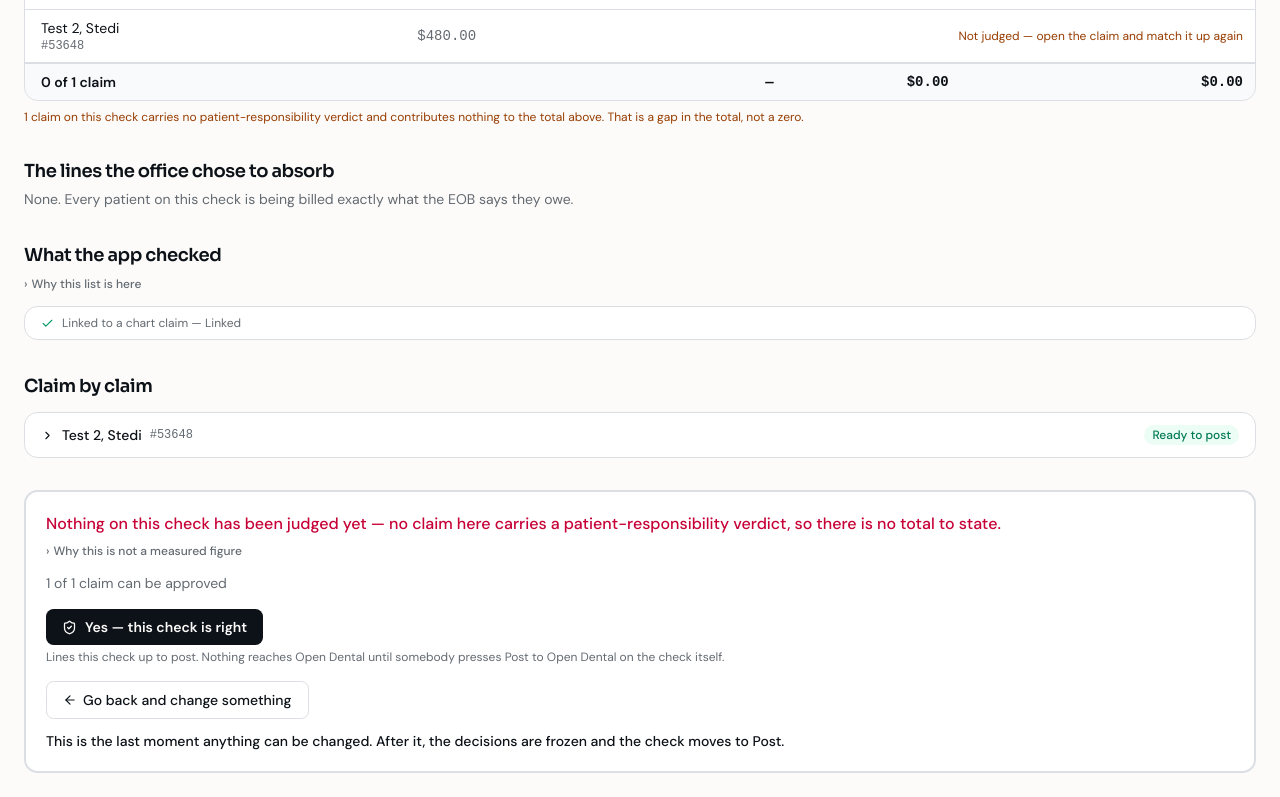
Test: an already-approved answer routes to the Posting screen, never back to the button › on the approve page
(page scrolled)
Click the button with test id "approve-button" at (155, 627), box [46,609,263,645]
(page scrolled)
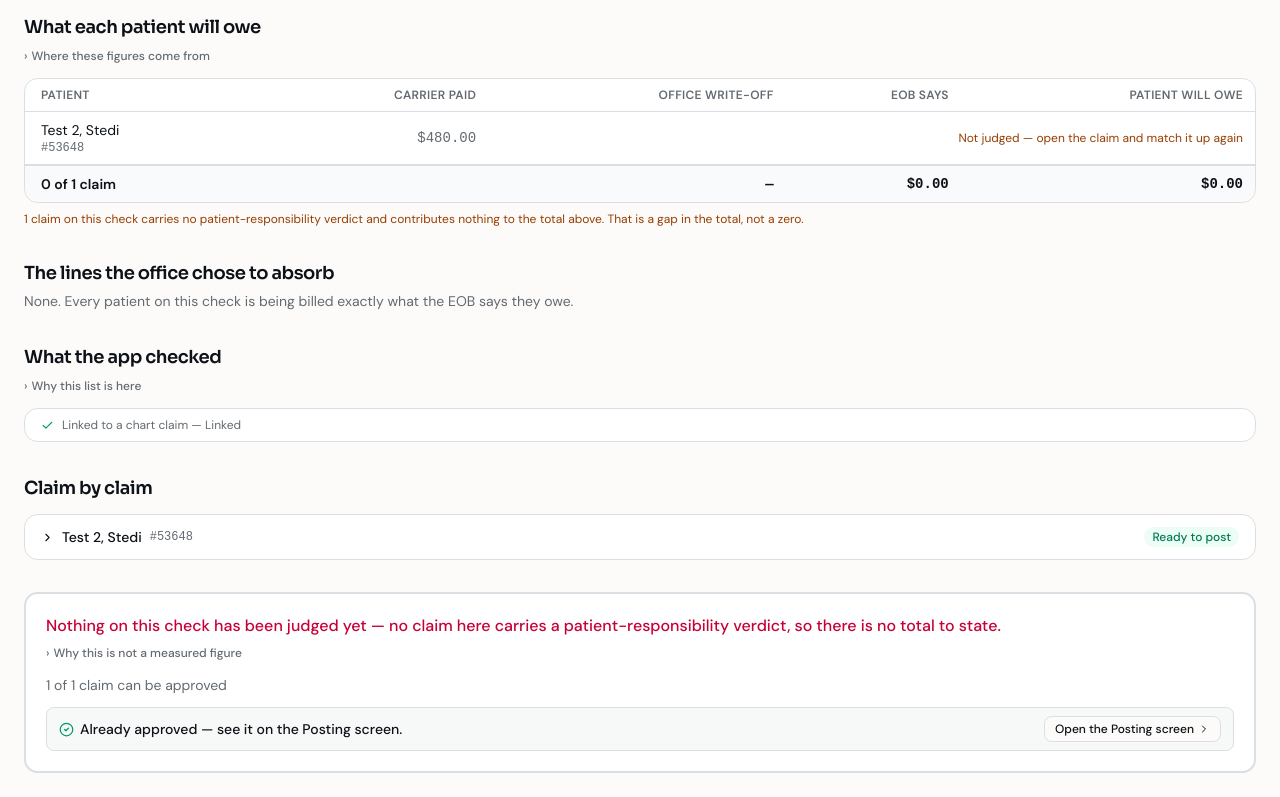
Now the element with test id "approve-already-approved" shows "Already approved — see it on the Posting screen", box [80,720,402,738]
Now the button with test id "approve-button" is gone
